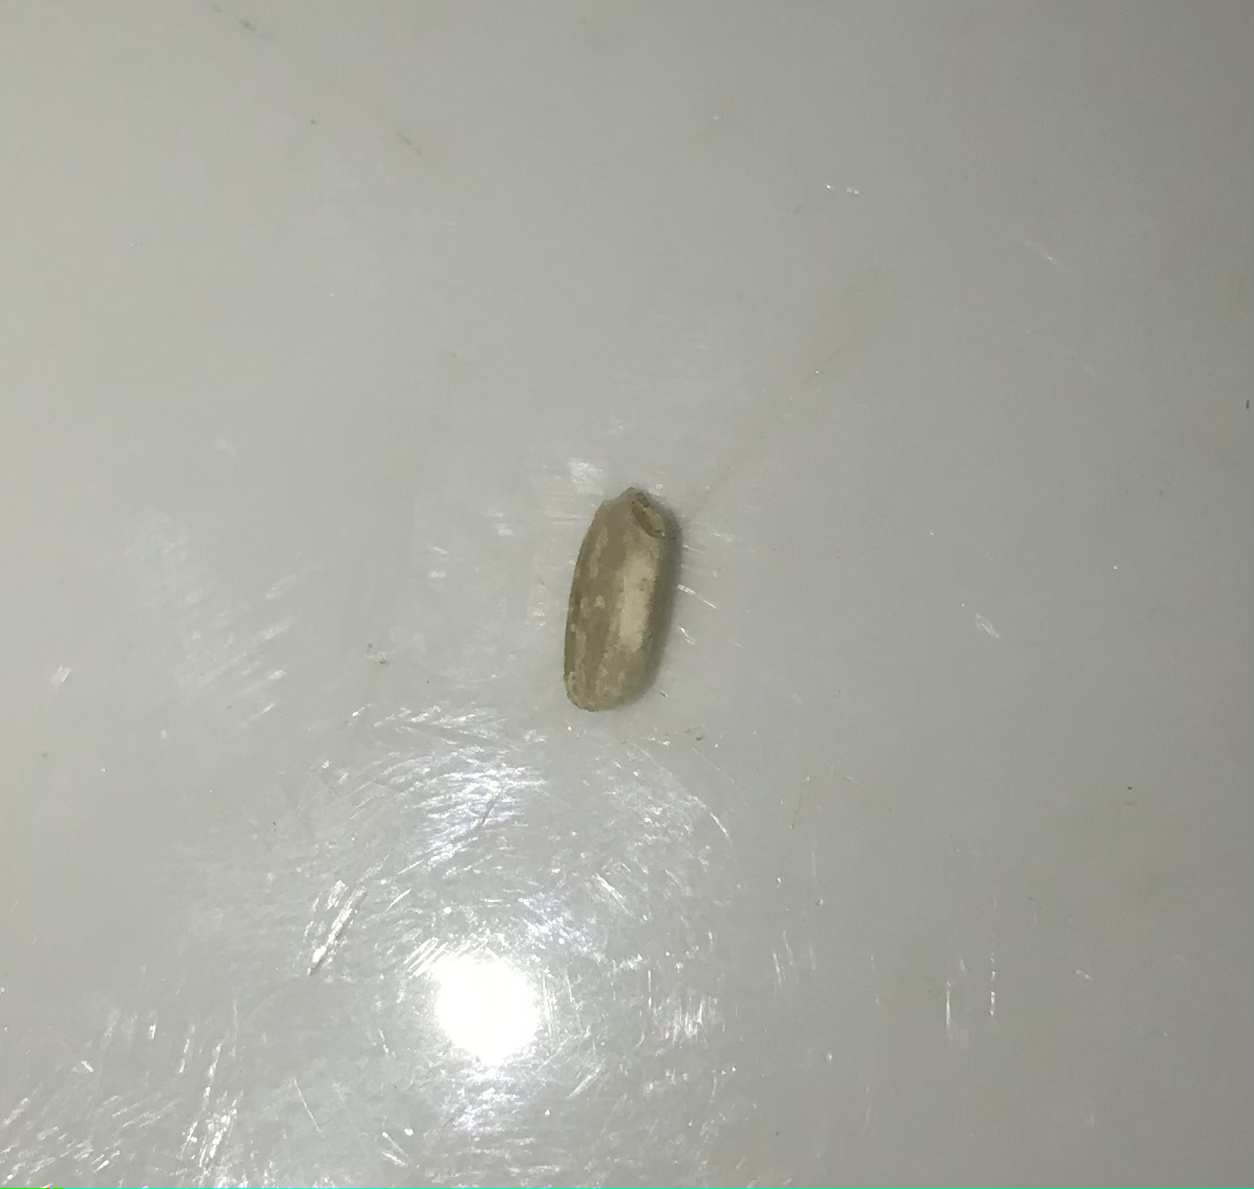Gao Lut Trang: (542, 479, 696, 742)
